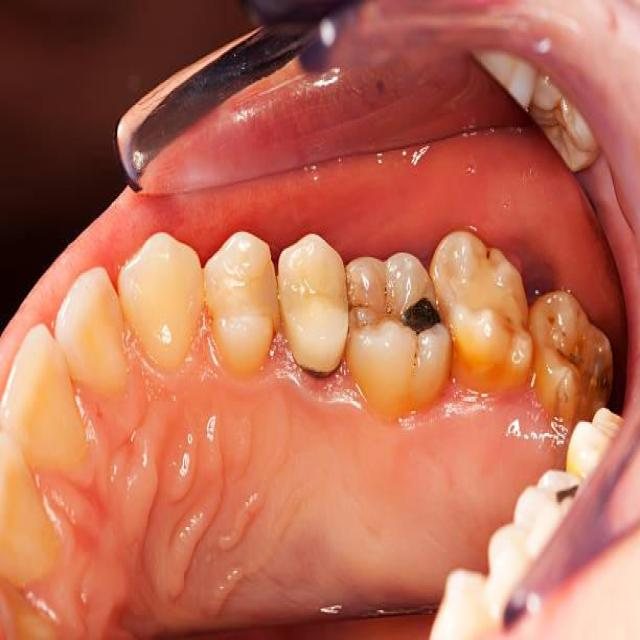caries: (348, 260, 440, 360), (537, 300, 614, 413), (288, 335, 350, 398)
